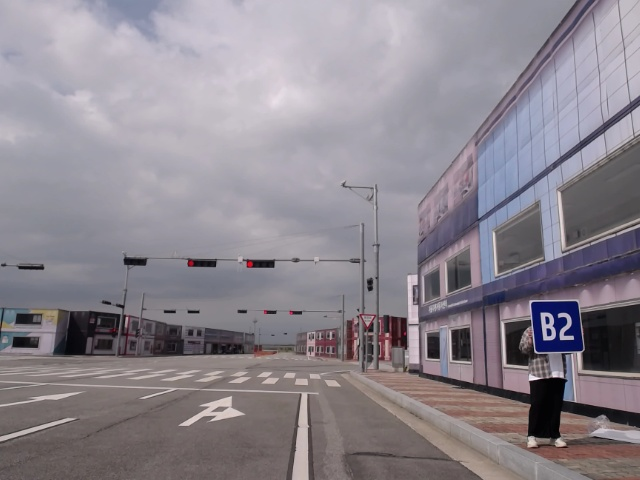delivery_b2: (528, 298, 588, 355)
red_4: (186, 255, 219, 269), (245, 256, 277, 269), (263, 308, 279, 315), (289, 309, 305, 316)
